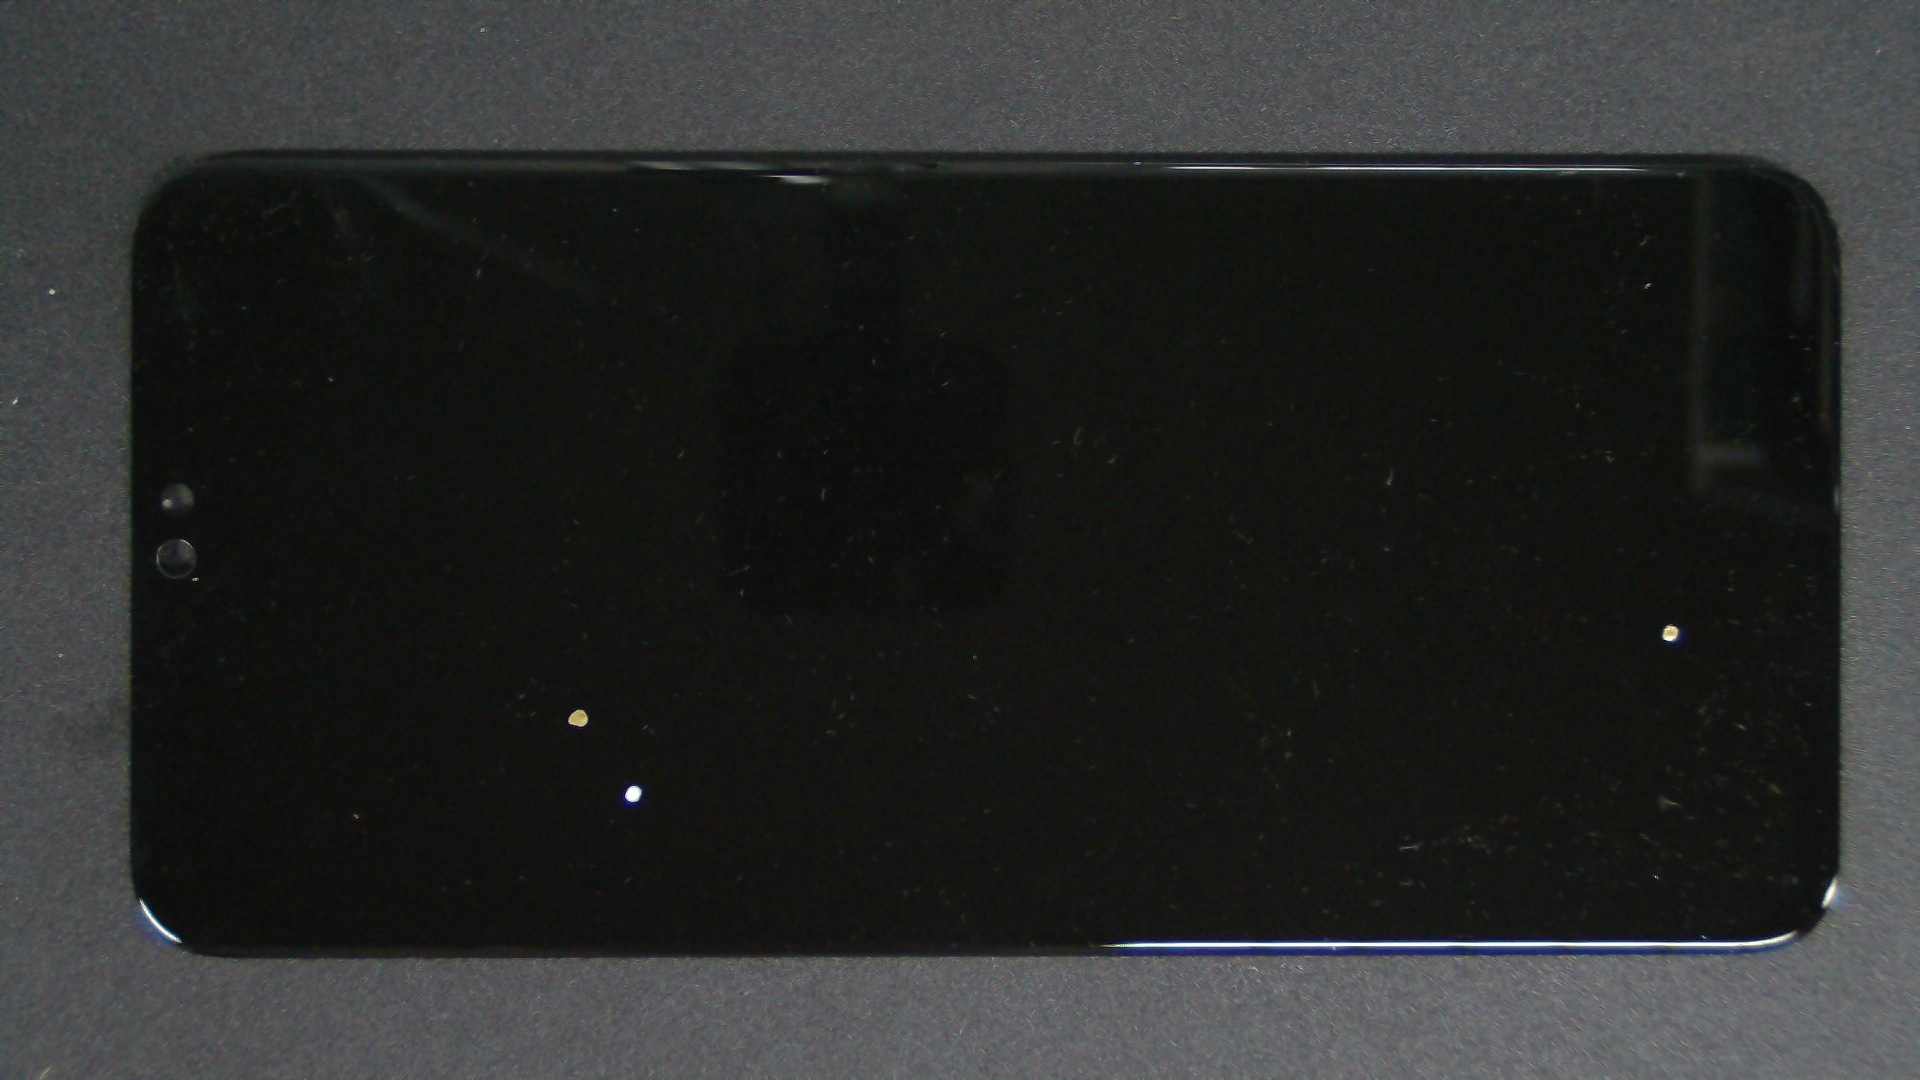oil: (836, 311, 1920, 935), (316, 390, 943, 1080), (290, 353, 866, 1063)
